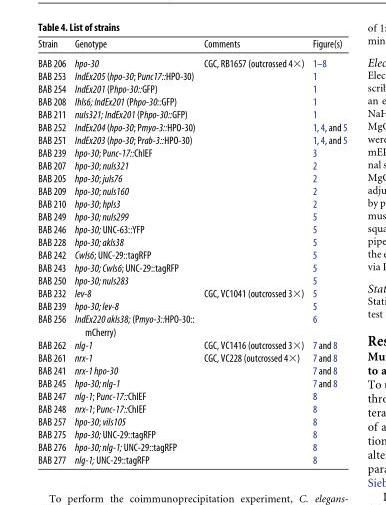table: (37, 37, 346, 465)
table column: (69, 37, 198, 465), (198, 37, 307, 465), (307, 37, 346, 465), (37, 37, 69, 465)
table column header: (37, 37, 346, 53)
table row: (37, 312, 346, 338), (37, 37, 346, 53), (37, 53, 346, 69), (37, 69, 346, 82), (37, 82, 346, 95), (37, 107, 346, 120), (37, 120, 346, 133), (37, 133, 346, 146), (37, 158, 346, 171), (37, 171, 346, 184), (37, 184, 346, 197), (37, 197, 346, 210), (37, 222, 346, 235), (37, 235, 346, 248), (37, 248, 346, 261), (37, 273, 346, 286), (37, 286, 346, 299), (37, 299, 346, 312), (37, 338, 346, 351), (37, 363, 346, 376), (37, 376, 346, 389), (37, 389, 346, 402), (37, 402, 346, 415), (37, 427, 346, 440), (37, 440, 346, 453), (37, 95, 346, 107), (37, 146, 346, 158), (37, 210, 346, 222), (37, 261, 346, 273), (37, 351, 346, 363), (37, 415, 346, 427), (37, 453, 346, 465)
